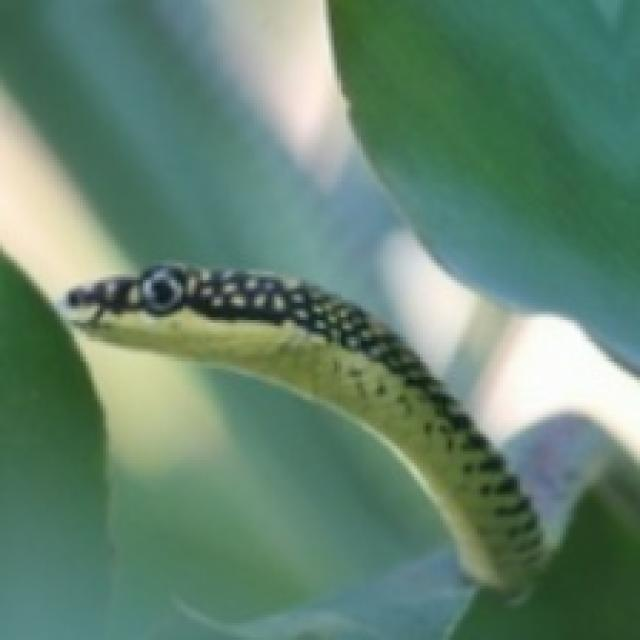paradise tree snake: (66, 266, 549, 591)
